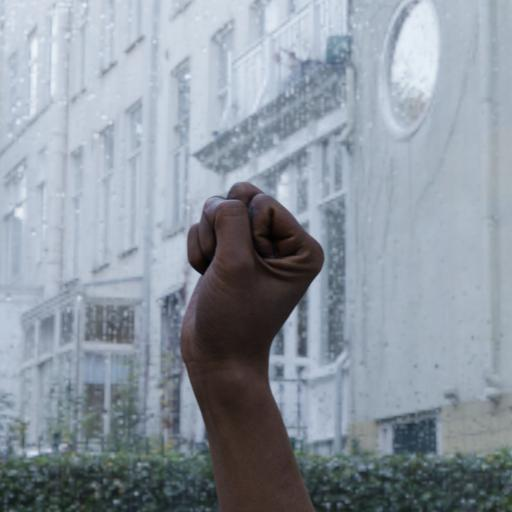S: (169, 174, 332, 420)
